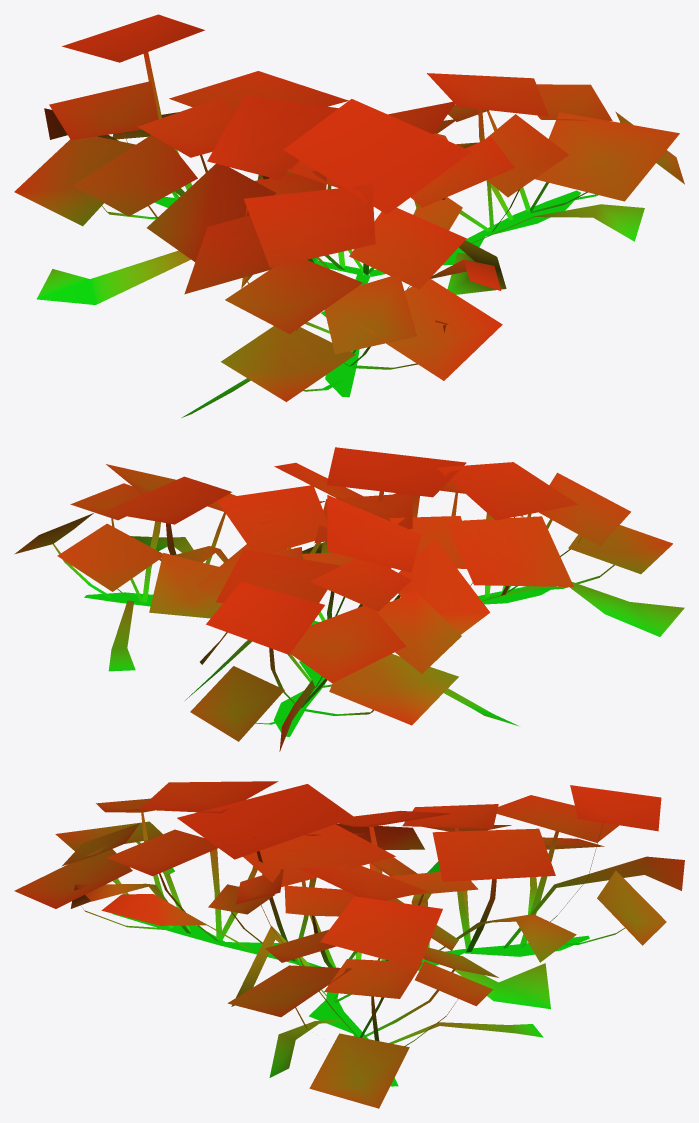
The model's file is Var4_LOD2.fbx.
3 renders of one model, top to bottom at view 1: azimuth 30°, elevation 25°; view 2: azimuth 150°, elevation 25°; view 3: azimuth 270°, elevation 25°, orthographic. The views are drawn at different scales.
Parts seen in each view (by area): view 1: _b116_Var4_LOD2; view 2: _b116_Var4_LOD2; view 3: _b116_Var4_LOD2.
Boxes of the visible parts, left/top/right/bottom form: _b116_Var4_LOD2: left=14, top=14, right=684, bottom=417; _b116_Var4_LOD2: left=14, top=447, right=684, bottom=751; _b116_Var4_LOD2: left=14, top=781, right=684, bottom=1108.
Size of the model in its own units: 56.22 by 15.67 by 57.14.
